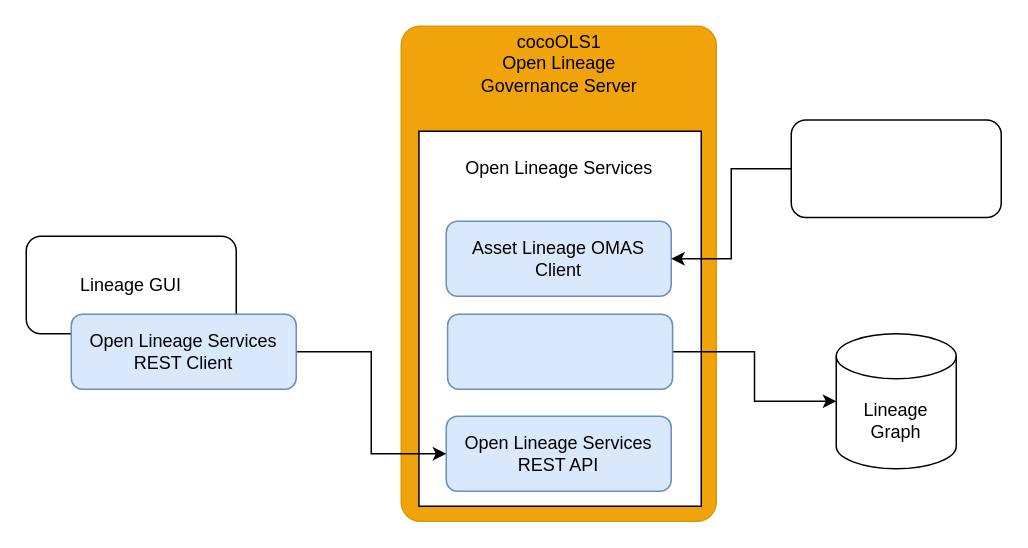
Some shapes in this 1028 by 548 pixel diagram are drawn without their labels. The shapes that lost their labels are listed below. From the top down, each one's box as (x1, y1, x2, y2) in pixels, then its label:
(790, 118, 1001, 218): cocoMDS1 Data Lake Operations
(446, 313, 673, 389): Lineage Graph Connector
